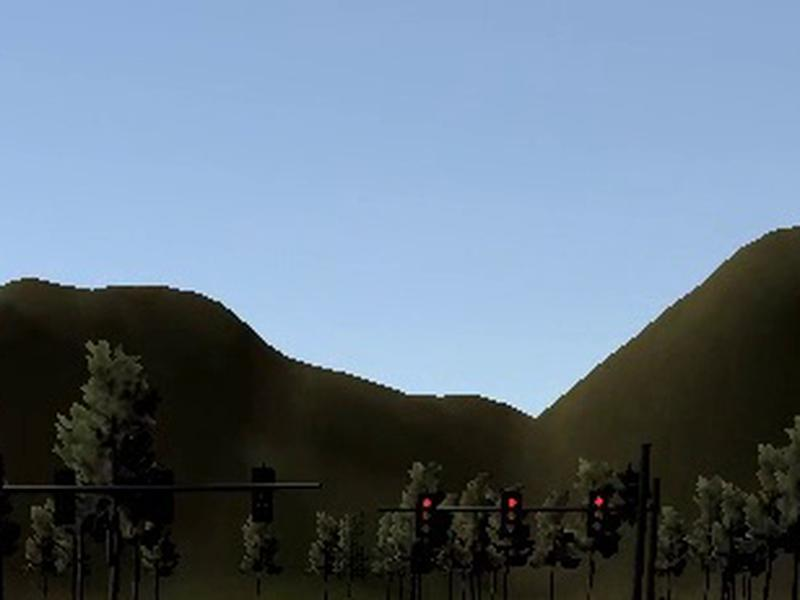Red: (586, 488, 610, 538), (500, 491, 524, 539), (414, 493, 438, 538)
